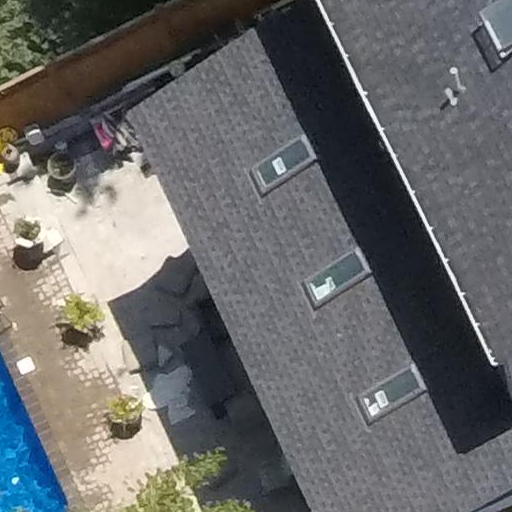container: (38, 151, 84, 186), (1, 142, 19, 168)
flower pot: (97, 386, 157, 441), (48, 301, 108, 353), (10, 212, 52, 254)
pool: (2, 351, 74, 512)
